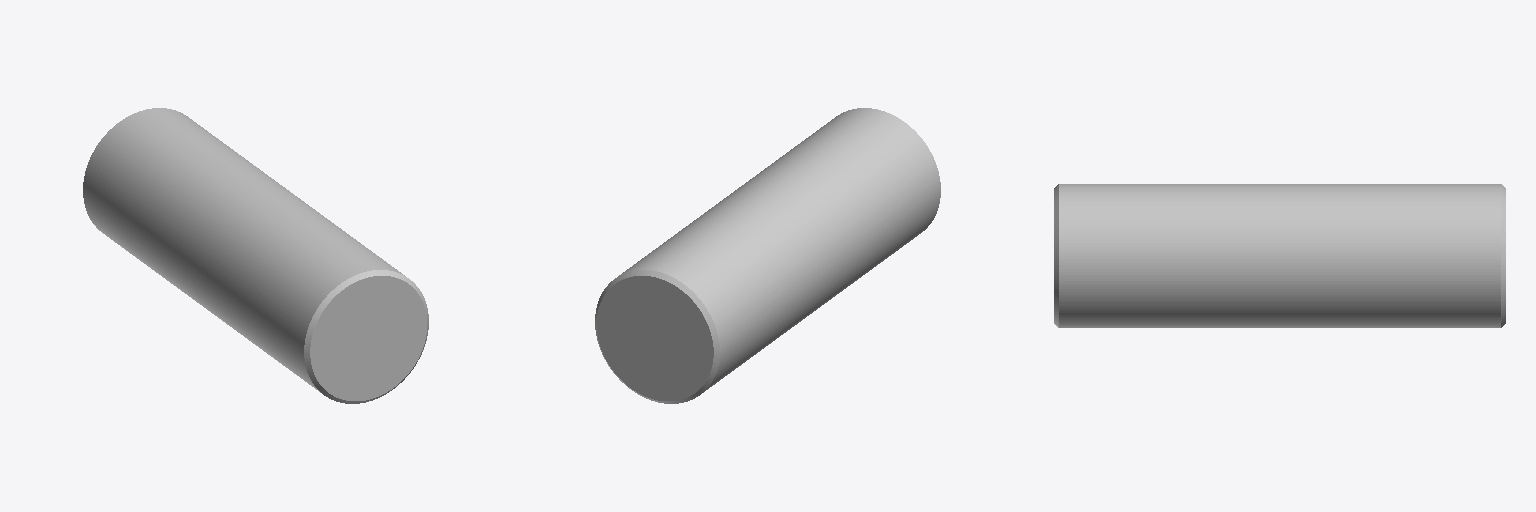
Rendered from factory_round_peg_16mm_loose.obj.
3 views of the same model, side by side, from view 1: azimuth 30°, elevation 25°; view 2: azimuth 150°, elevation 25°; view 3: azimuth 270°, elevation 25° (orthographic).
Visible parts, largest first — view 1: mesh2, mesh0, mesh1; view 2: mesh2, mesh4, mesh3; view 3: mesh2, mesh1, mesh3.
Boxes of the visible parts, x1=… form: mesh2: x1=83, y1=108, x2=404, y2=392; mesh0: x1=310, y1=276, x2=426, y2=400; mesh1: x1=304, y1=270, x2=428, y2=403; mesh2: x1=619, y1=108, x2=940, y2=392; mesh4: x1=597, y1=276, x2=713, y2=400; mesh3: x1=595, y1=270, x2=719, y2=403; mesh2: x1=1059, y1=184, x2=1500, y2=327; mesh1: x1=1054, y1=184, x2=1058, y2=327; mesh3: x1=1501, y1=184, x2=1505, y2=327.
Size of the model in its own units: 0.016 by 0.016 by 0.05.